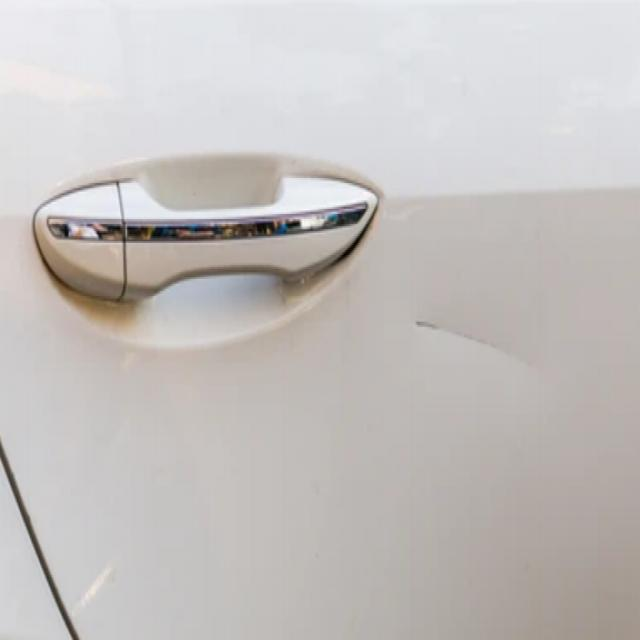dents: (416, 306, 547, 394)
